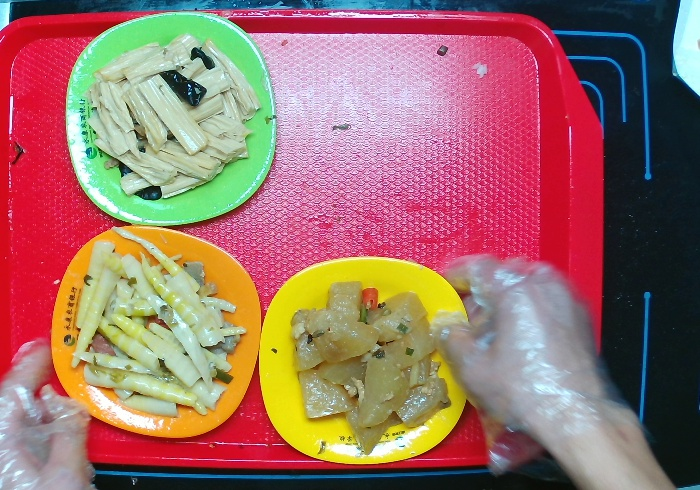YKMZ-Huang_Se_Fang_Die: (257, 256, 475, 466)
YKMZ-Ju_Se_Fang_Die: (48, 224, 263, 441)
YKMZ-Lv_Se_Fang_Die: (64, 12, 278, 230)
